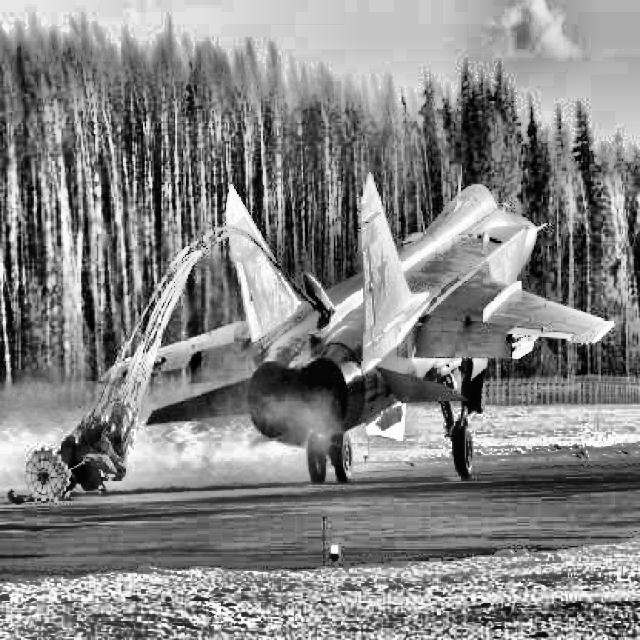Mig31: (98, 163, 614, 483)
